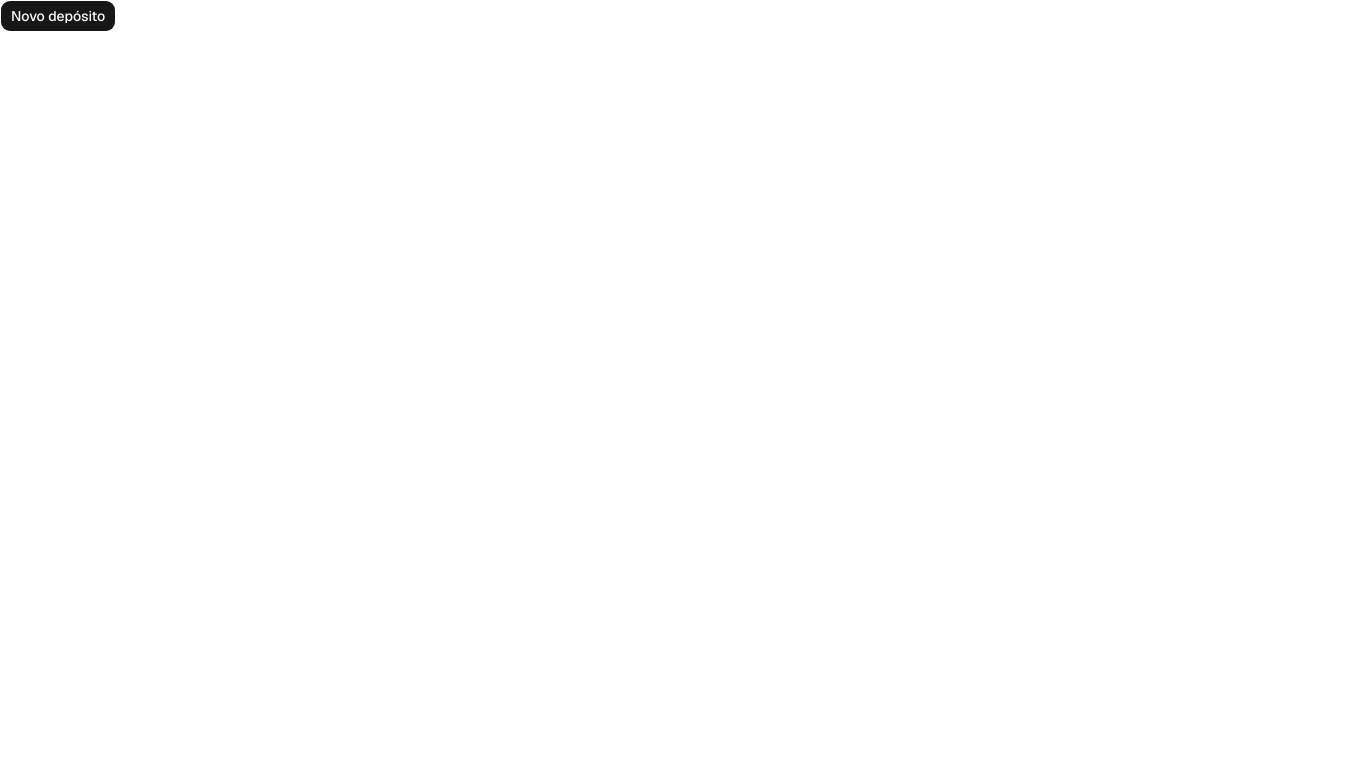
Test: CreateWarehouseDialog › opens the form
Click the button "Novo depósito" at [58, 16], box x1=0 y1=0 x2=116 y2=32
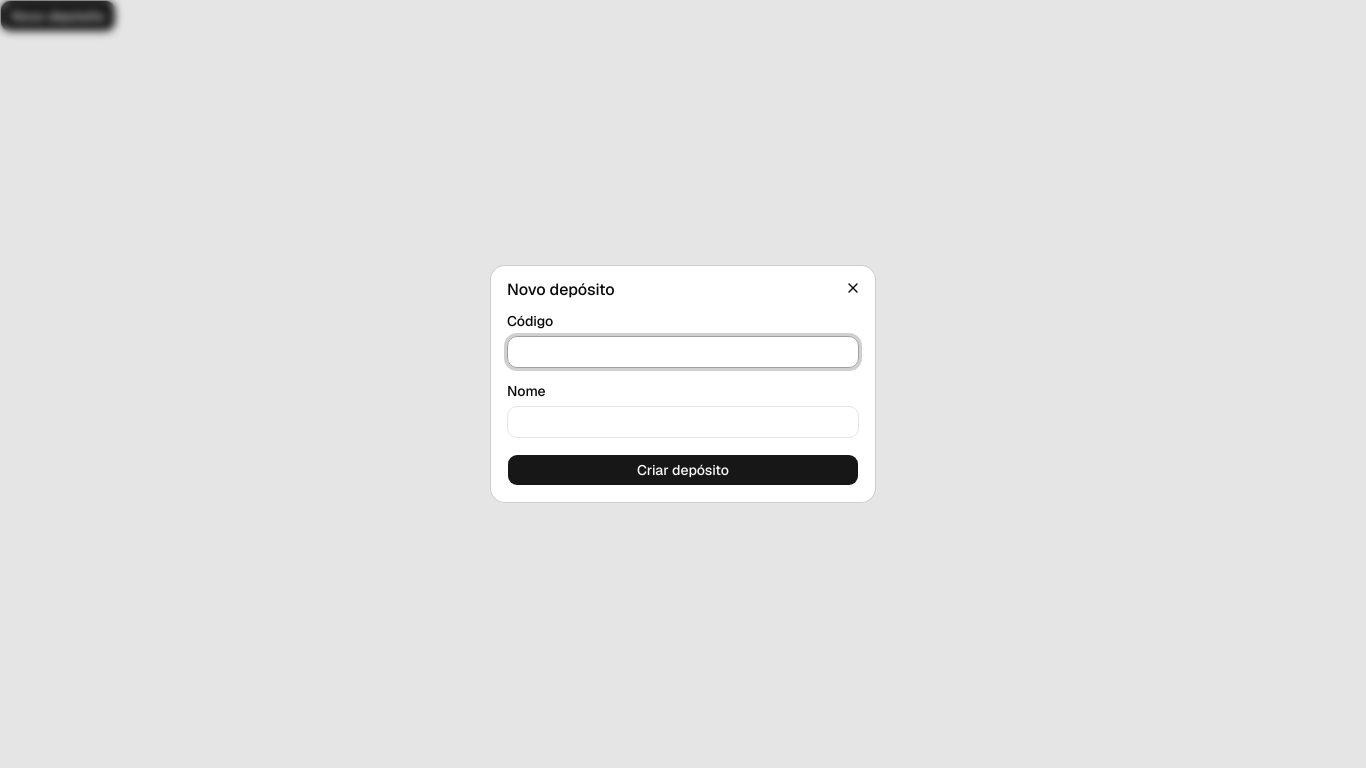
Expected: the dialog is shown, x1=491 y1=266 x2=875 y2=502
Expected: the field labelled "Código" is shown, x1=507 y1=336 x2=859 y2=368
Expected: the field labelled "Nome" is shown, x1=507 y1=406 x2=859 y2=438
